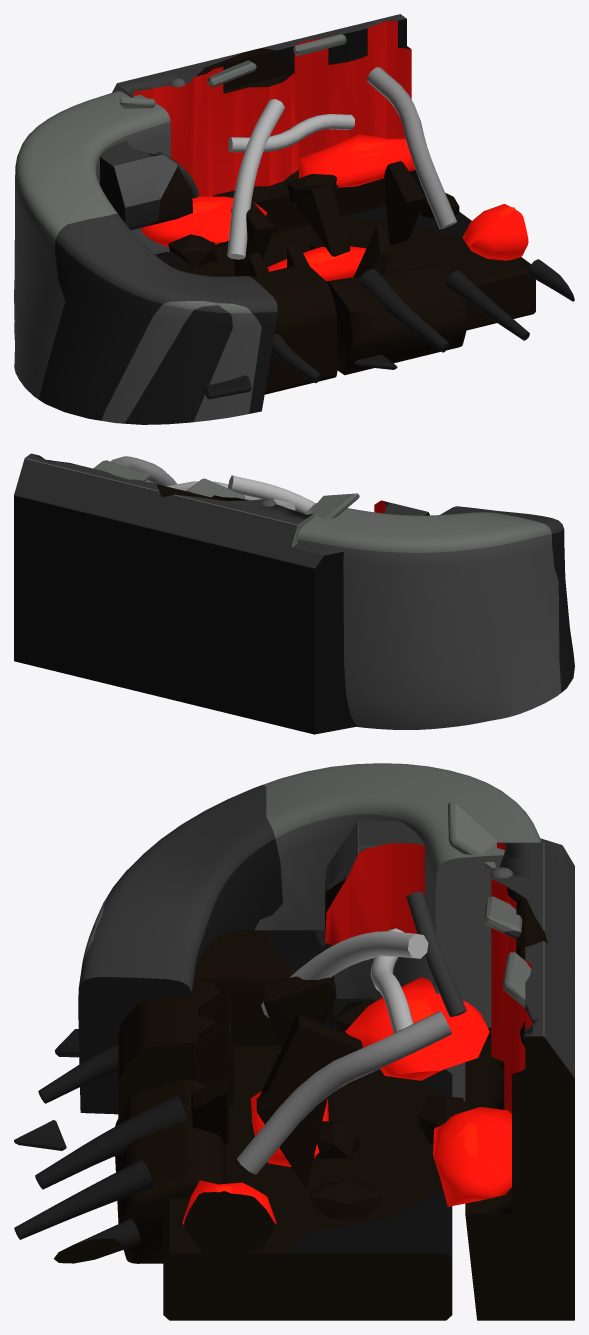
The model's file is jaw_gun_a_left_wreck.glb.
3 renders of one model, top to bottom at view 1: azimuth 30°, elevation 25°; view 2: azimuth 150°, elevation 25°; view 3: azimuth 270°, elevation 25°, orthographic. The views are drawn at different scales.
Parts seen in each view (by area): view 1: hinge.001, upper_jaw.001, mouth_floor.001, lower_jaw_r.001, lower_jaw.001, ember1.001, twisted2.001, twisted0.001, ember3.001, ember0.001, upper_tooth4.001, upper_tooth2.001 (+13 smaller); view 2: upper_jaw.001, hinge.001, twisted0.001, twisted2.001, petal0.001, petal3.001, petal1.001, twisted1.001; view 3: hinge.001, upper_jaw.001, mouth_floor.001, lower_jaw_r.001, cheek.001, lower_jaw.001, twisted2.001, ember1.001, ember0.001, ember3.001, charred_fang1.001, upper_tooth2.001 (+18 smaller).
Part boxes in pixels (x1,y1,x2,y2): hinge.001: (14, 91, 277, 424); upper_jaw.001: (100, 14, 424, 247); mouth_floor.001: (195, 206, 535, 330); lower_jaw_r.001: (326, 264, 468, 375); lower_jaw.001: (250, 265, 337, 394); ember1.001: (299, 134, 415, 187); twisted2.001: (367, 67, 456, 229); twisted0.001: (227, 99, 284, 259); ember3.001: (462, 204, 528, 260); ember0.001: (141, 196, 267, 247); upper_tooth4.001: (384, 161, 425, 244); upper_tooth2.001: (292, 183, 350, 256); upper_jaw.001: (14, 453, 429, 734); hinge.001: (297, 503, 574, 729); twisted0.001: (228, 475, 315, 513); twisted2.001: (111, 456, 177, 486); petal0.001: (311, 493, 359, 519); petal3.001: (186, 478, 244, 499); petal1.001: (93, 460, 149, 481); twisted1.001: (166, 481, 295, 510); hinge.001: (78, 763, 541, 1114); upper_jaw.001: (325, 820, 574, 1320); mouth_floor.001: (163, 998, 452, 1320); lower_jaw_r.001: (115, 1080, 226, 1263); cheek.001: (195, 930, 334, 1045); lower_jaw.001: (118, 981, 233, 1117); twisted2.001: (237, 1011, 451, 1174); ember1.001: (433, 1107, 511, 1206); ember0.001: (345, 977, 489, 1080); ember3.001: (182, 1180, 276, 1261); charred_fang1.001: (35, 1095, 188, 1189); upper_tooth2.001: (260, 1015, 362, 1095).
Bounding box in the file's own units: 23.94 × 10.87 × 18.06.
